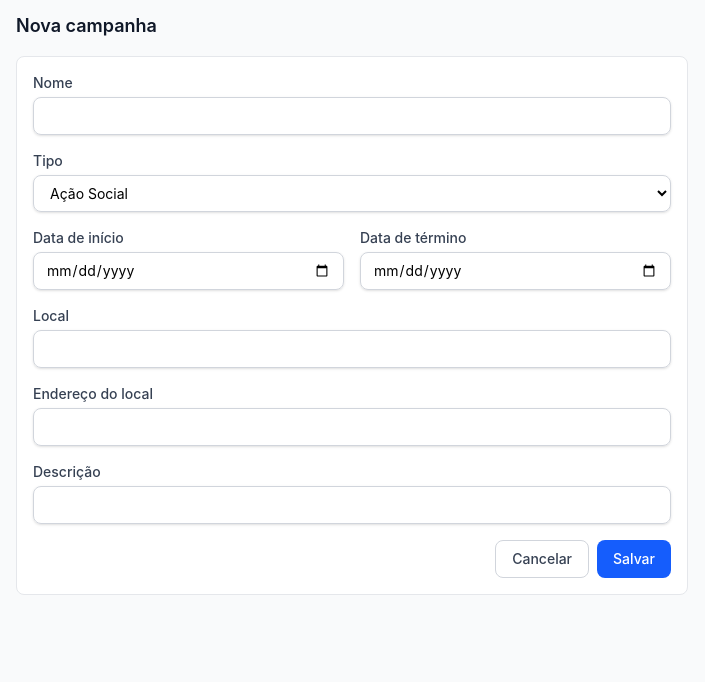
CampaignFormPage › surfaces an API failure as a readable message
Type "Nova Ação" into the field labelled "Nome". click: point(352, 116)
box: x1=33 y1=97 x2=671 y2=135
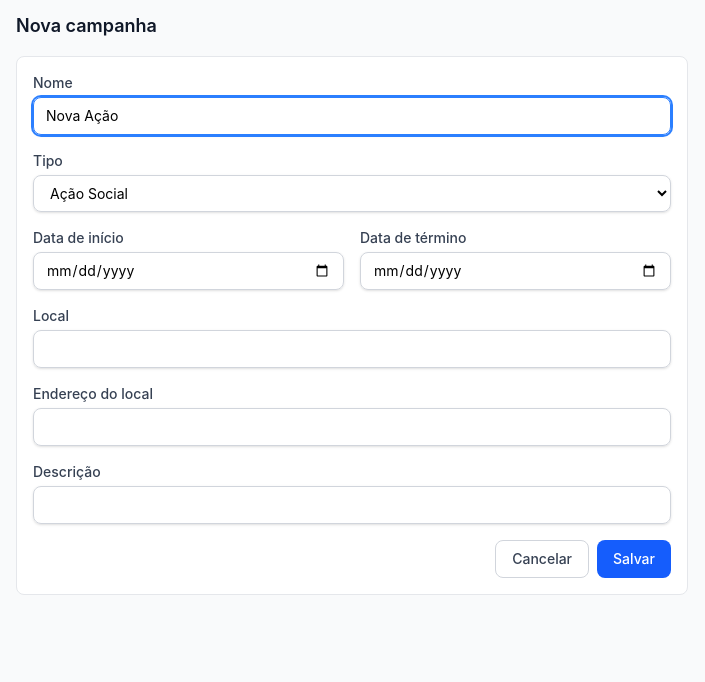
Type "2026-07-10" into the date field labelled "Data de início". click: point(188, 271)
box: x1=33 y1=252 x2=344 y2=290
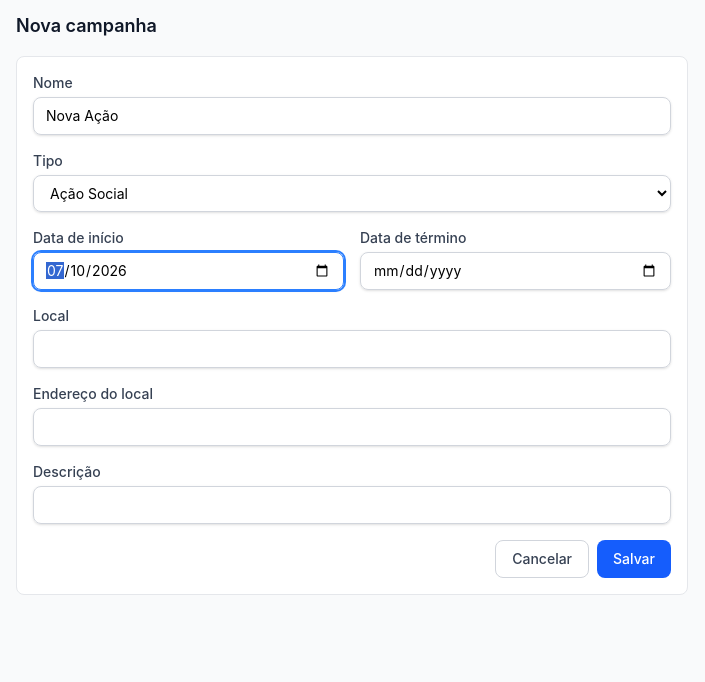
Click the button "Salvar". click: point(634, 559)
box: x1=597 y1=540 x2=671 y2=578
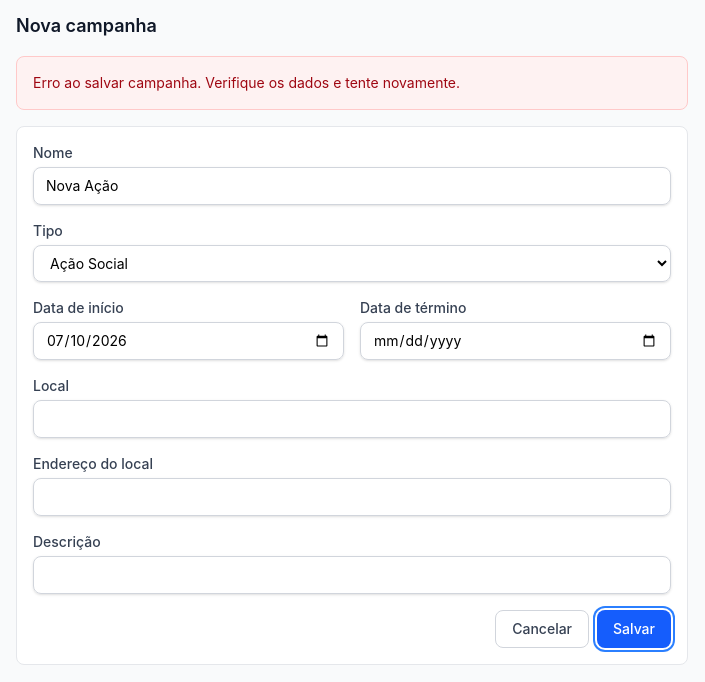
Expected: the text "Erro ao salvar campanha" is shown, x1=33 y1=74 x2=460 y2=91
